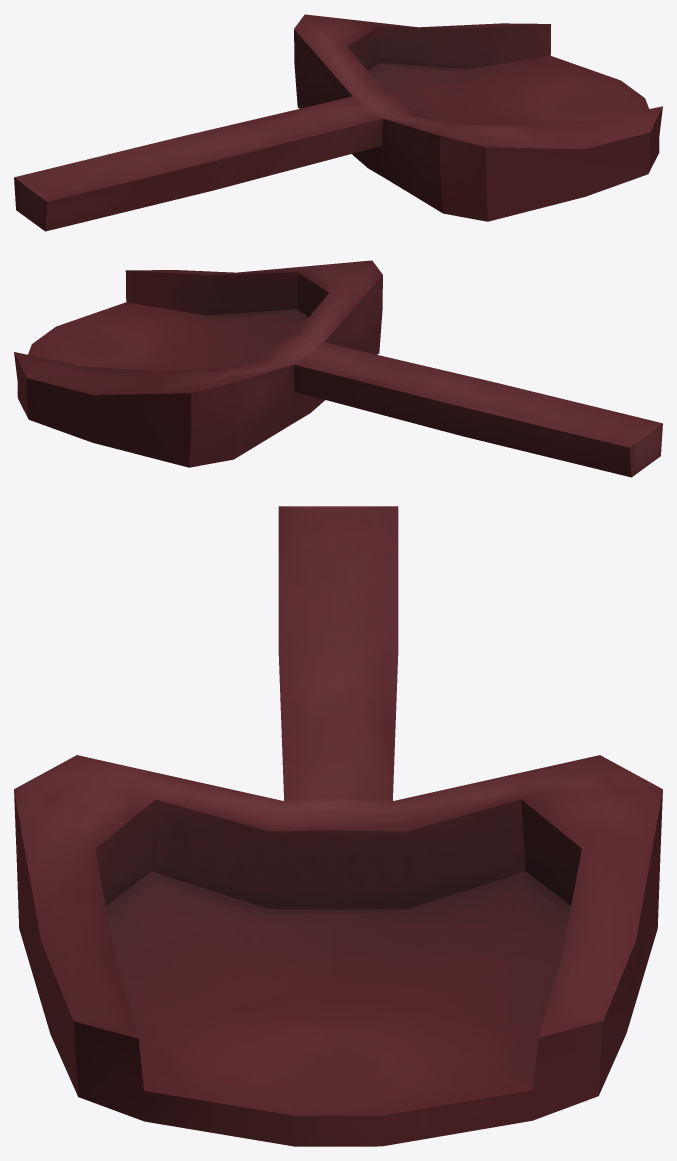
The model's file is shovel.fbx.
The picture shows the model from 3 angles, top to bottom: view 1: azimuth 30°, elevation 25°; view 2: azimuth 150°, elevation 25°; view 3: azimuth 270°, elevation 25°; orthographic projection. The views are drawn at different scales.
Visible parts, largest first — view 1: Plane; view 2: Plane; view 3: Plane.
Boxes of the visible parts, x1=… form: Plane: x1=14, y1=14, x2=662, y2=231; Plane: x1=14, y1=260, x2=662, y2=477; Plane: x1=14, y1=506, x2=662, y2=1146.
Size of the model in its own units: 189 by 26.81 by 98.57.
